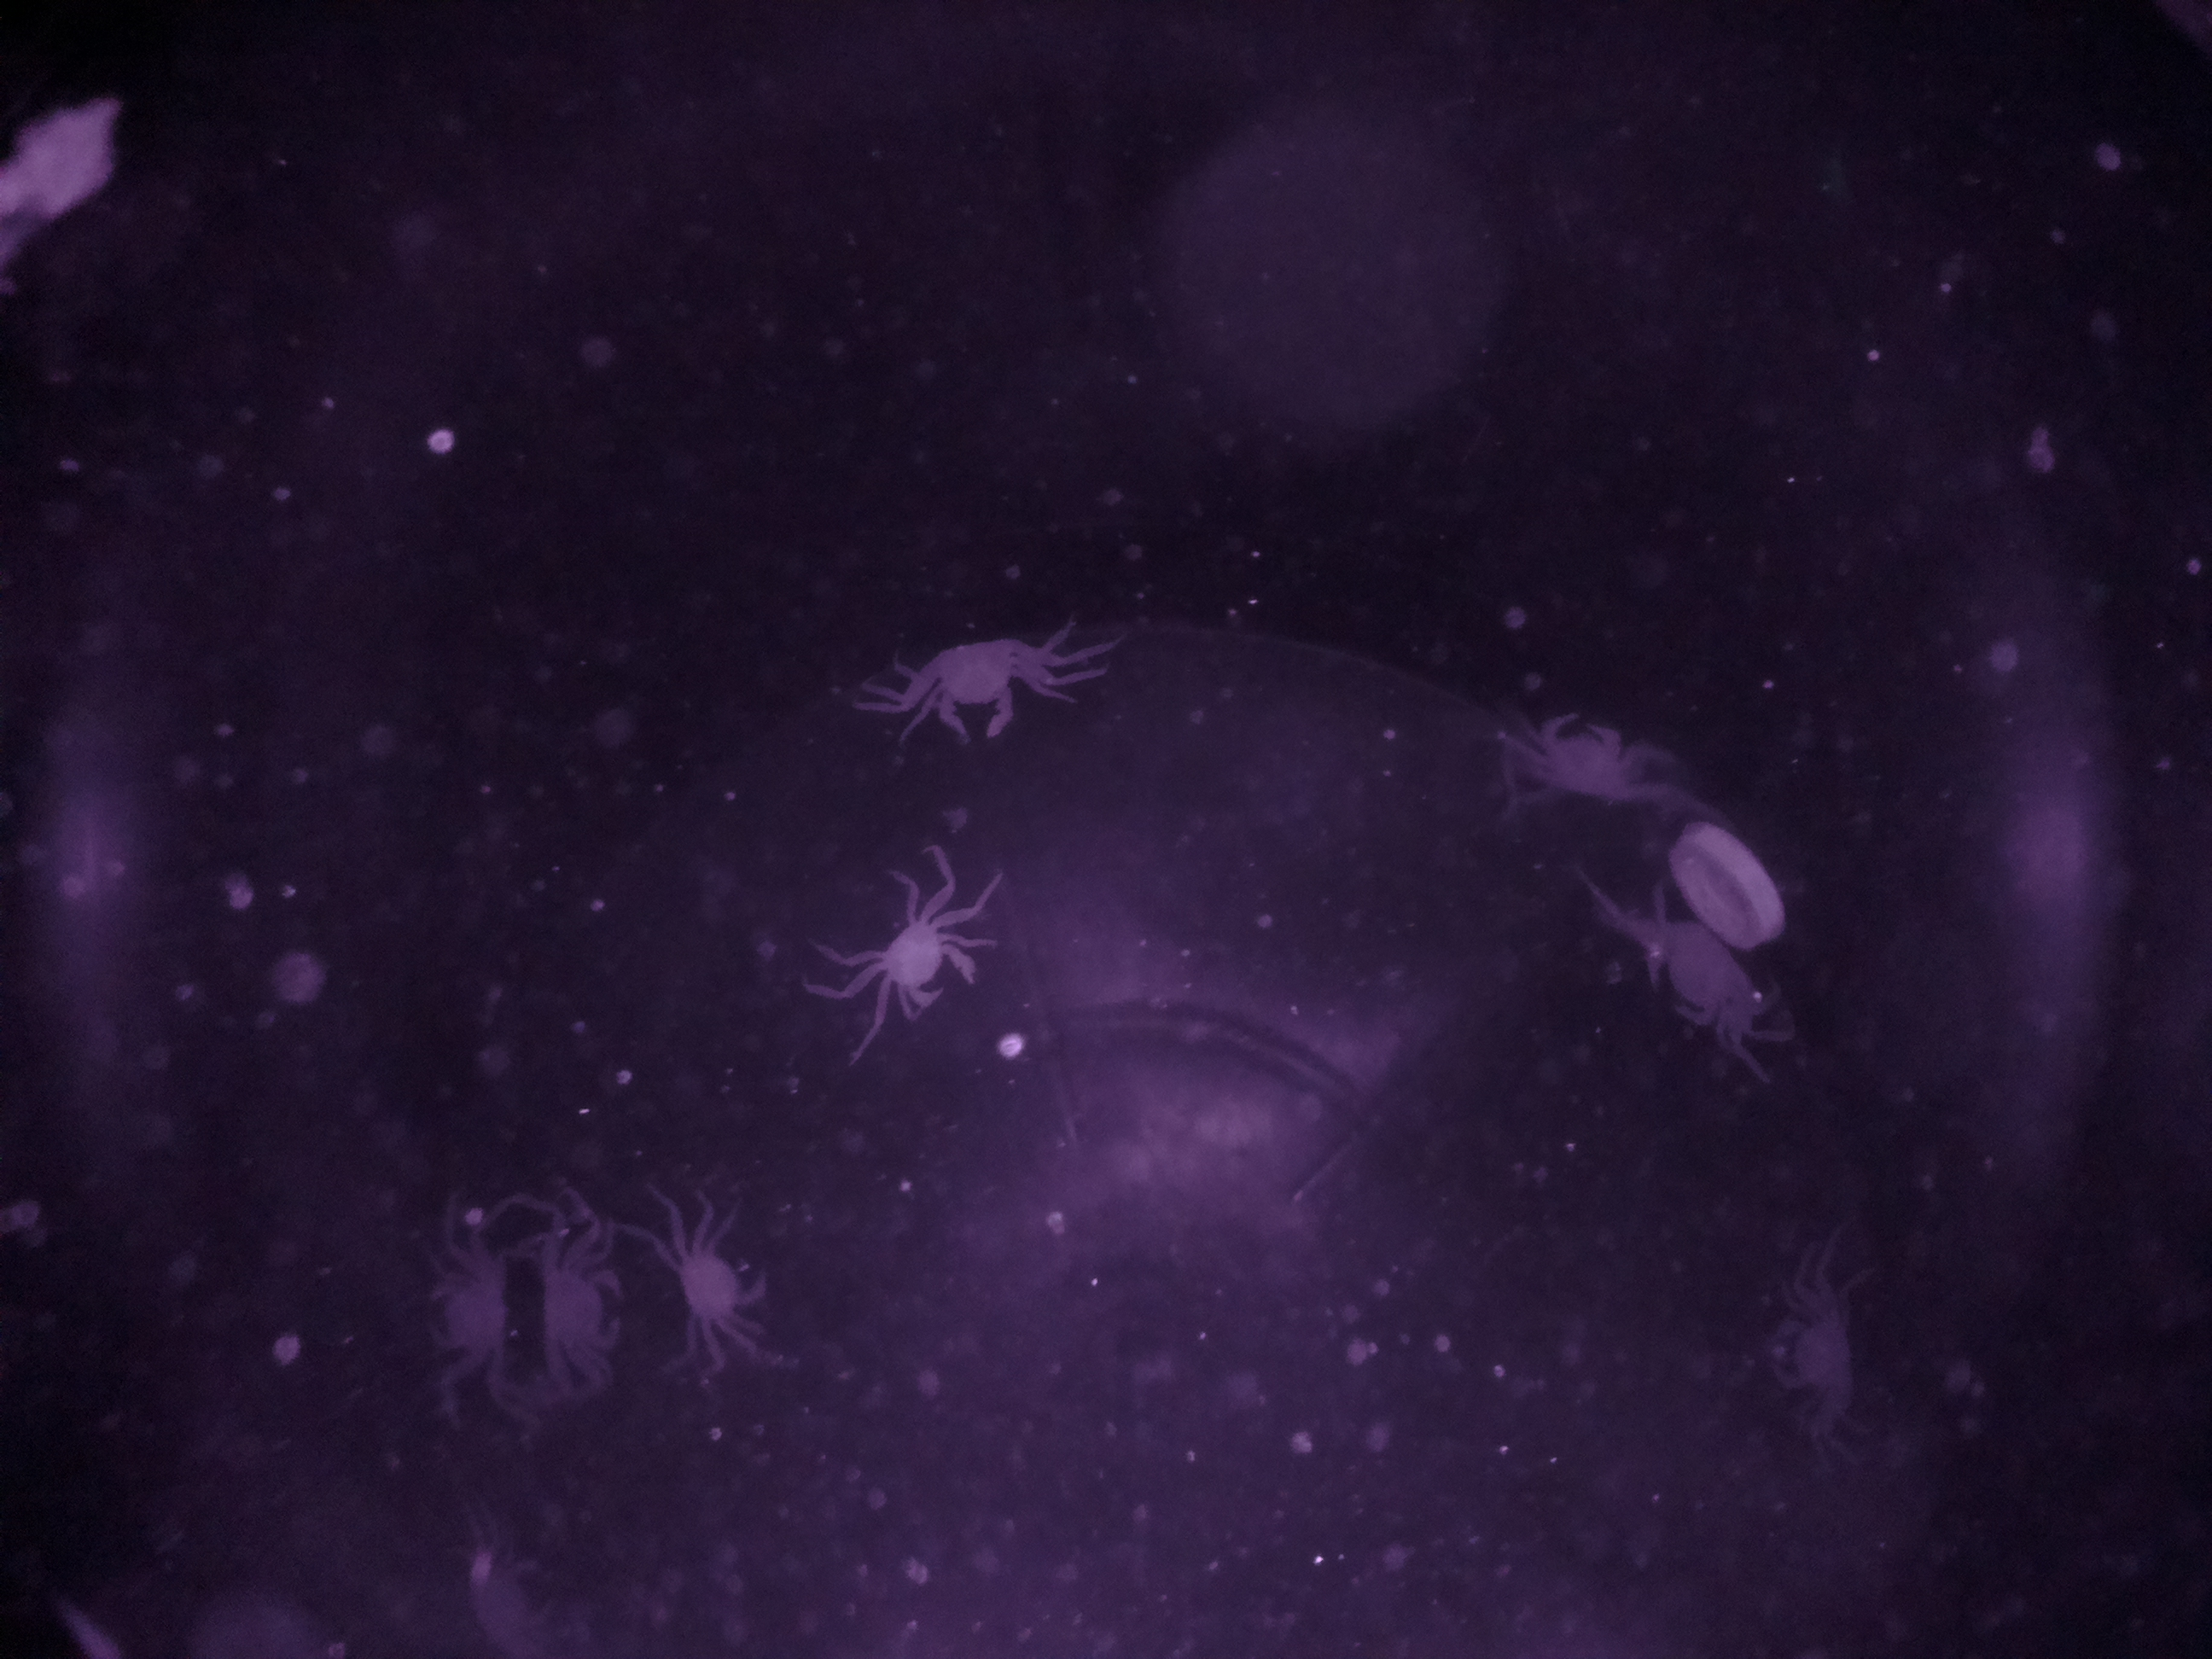Crab: (902, 606, 1068, 770), (1629, 887, 1784, 1056), (395, 1225, 523, 1412), (852, 887, 1000, 1040), (1507, 683, 1670, 817), (529, 1216, 643, 1405), (658, 1216, 808, 1354)
